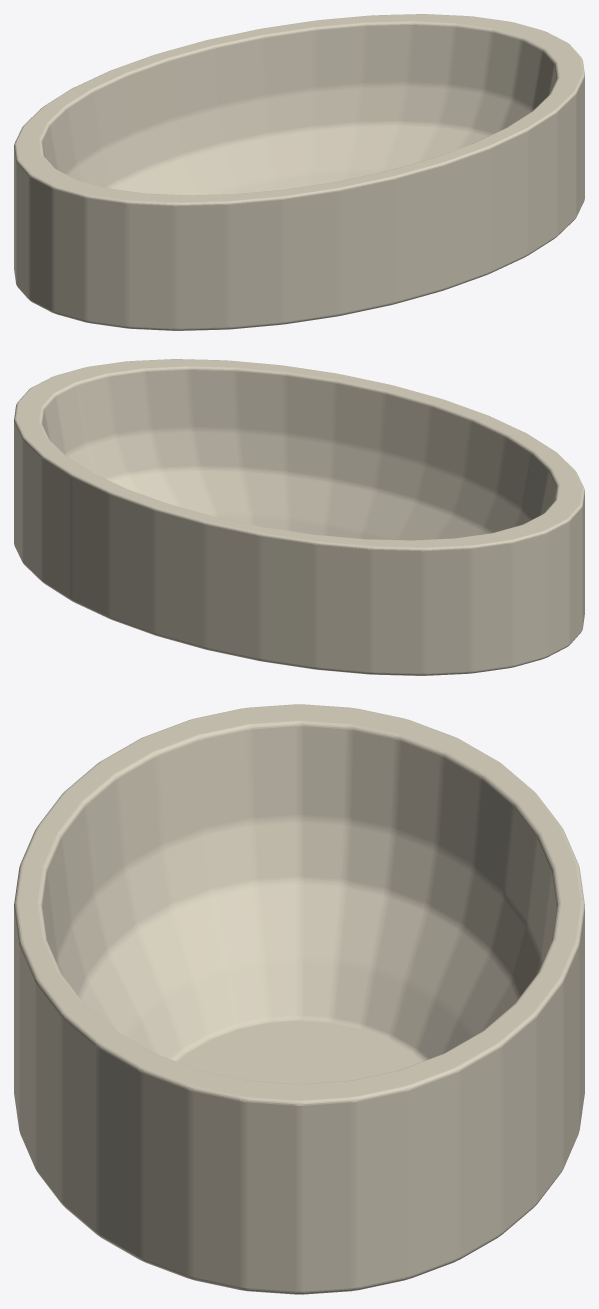
File: BathtubTubV1.fbx
3 renders of one model, top to bottom at view 1: azimuth 30°, elevation 25°; view 2: azimuth 150°, elevation 25°; view 3: azimuth 270°, elevation 25°, orthographic. The views are drawn at different scales.
Visible parts, largest first — view 1: Cylinder.001; view 2: Cylinder.001; view 3: Cylinder.001.
Boxes of the visible parts, box(x1,y1,x2,y2) form: Cylinder.001: box(14, 14, 584, 330); Cylinder.001: box(14, 359, 584, 675); Cylinder.001: box(14, 704, 584, 1294).
Size of the model in its own units: 1858 by 3075 by 844.
